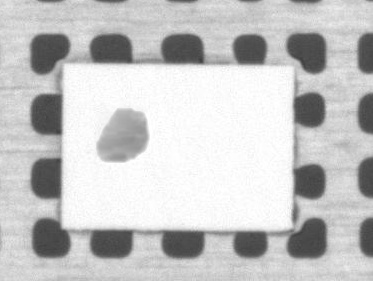DIE_INK: (94, 107, 150, 165)
